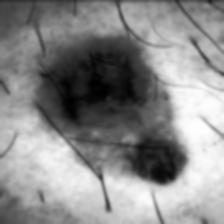Potentially Malignant Skin Tumors: (32, 30, 178, 200)
